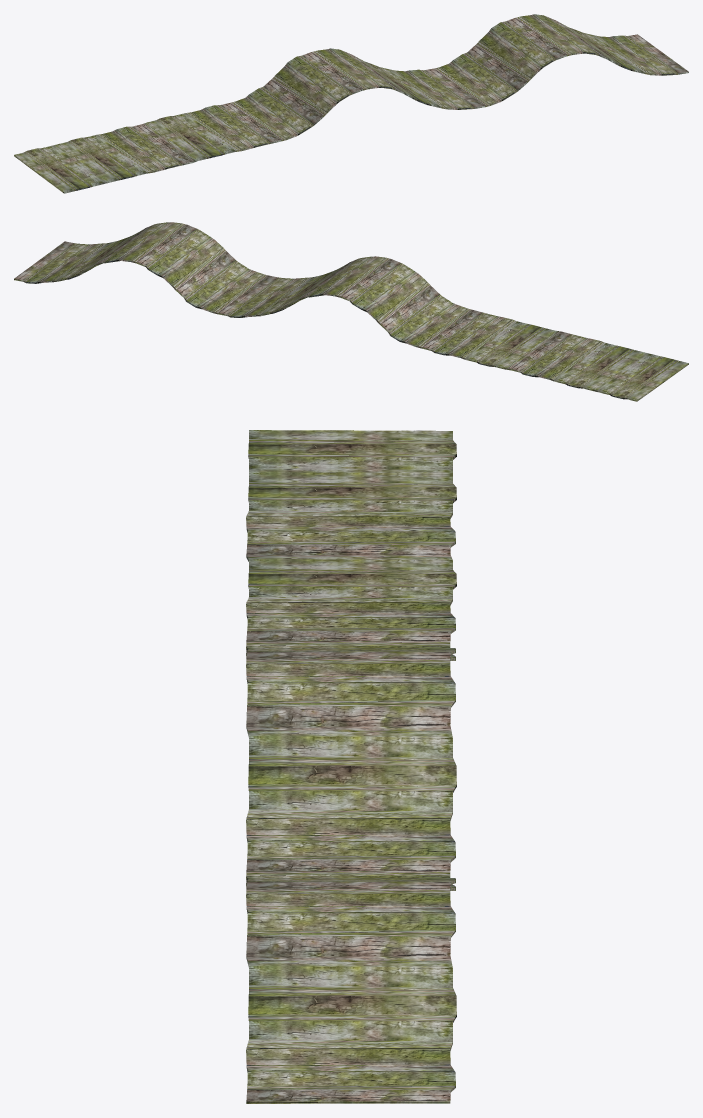
File: Col-R-1.fbx
3 renders of one model, top to bottom at view 1: azimuth 30°, elevation 25°; view 2: azimuth 150°, elevation 25°; view 3: azimuth 270°, elevation 25°, orthographic. The views are drawn at different scales.
Visible parts, largest first — view 1: ramp_001; view 2: ramp_001; view 3: ramp_001.
Boxes of the visible parts, x1=… form: ramp_001: x1=14, y1=14, x2=688, y2=193; ramp_001: x1=14, y1=222, x2=688, y2=401; ramp_001: x1=246, y1=430, x2=456, y2=1103.
Size of the model in its own units: 1409 by 137 by 206.
